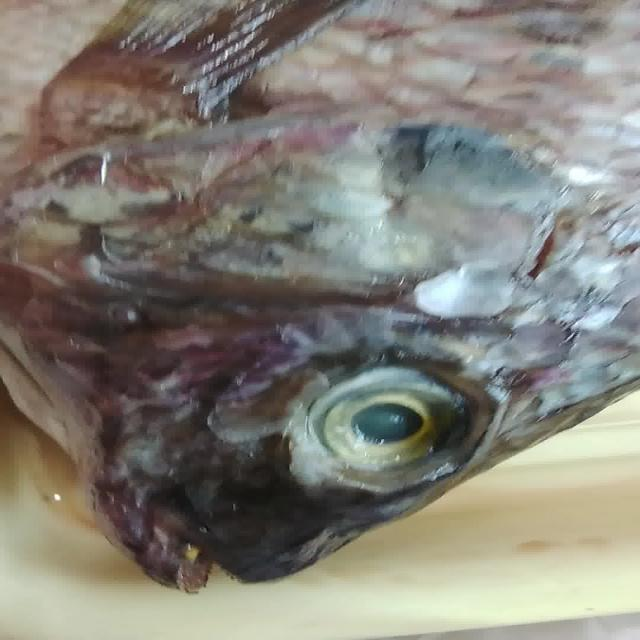Non-Fresh: (14, 9, 626, 350), (270, 352, 508, 496)
